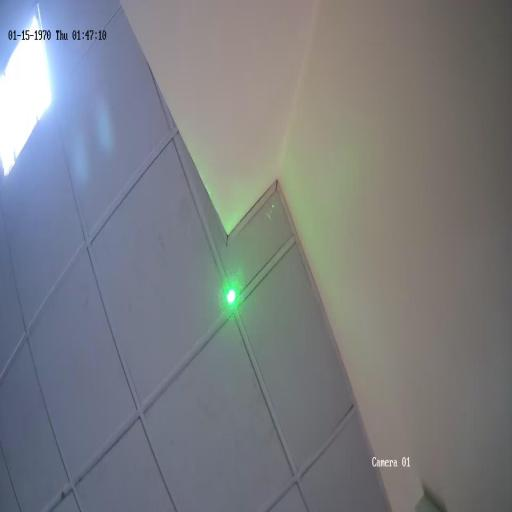laser: (225, 286, 238, 310)
